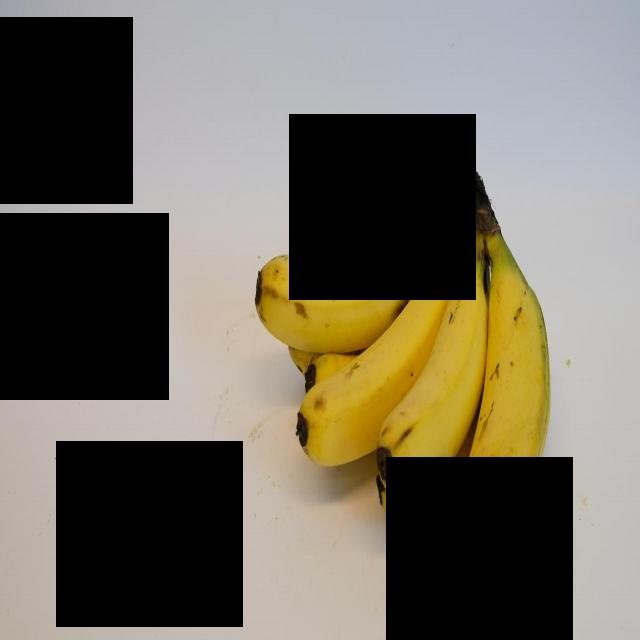banana: (304, 236, 459, 475), (241, 188, 435, 336), (465, 240, 555, 544), (378, 272, 489, 498)
